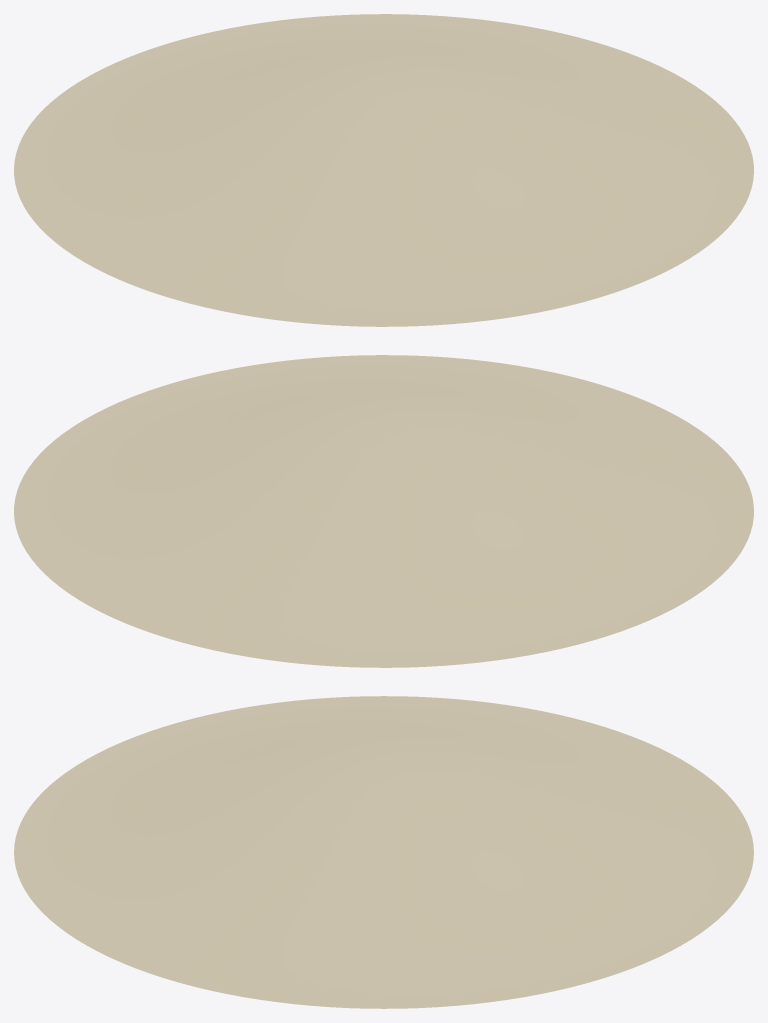
Rendered from beach_fixture.gltf.
3 renders of one model, top to bottom at view 1: azimuth 30°, elevation 25°; view 2: azimuth 150°, elevation 25°; view 3: azimuth 270°, elevation 25°, orthographic.
Parts seen in each view (by area): view 1: beach_dome; view 2: beach_dome; view 3: beach_dome.
Part boxes in pixels (x1=…): beach_dome: x1=14, y1=14, x2=753, y2=326; beach_dome: x1=14, y1=355, x2=753, y2=667; beach_dome: x1=14, y1=696, x2=753, y2=1008.
Size of what is drawn, in the model's own units: 74.4 by 9.6 by 74.4.
